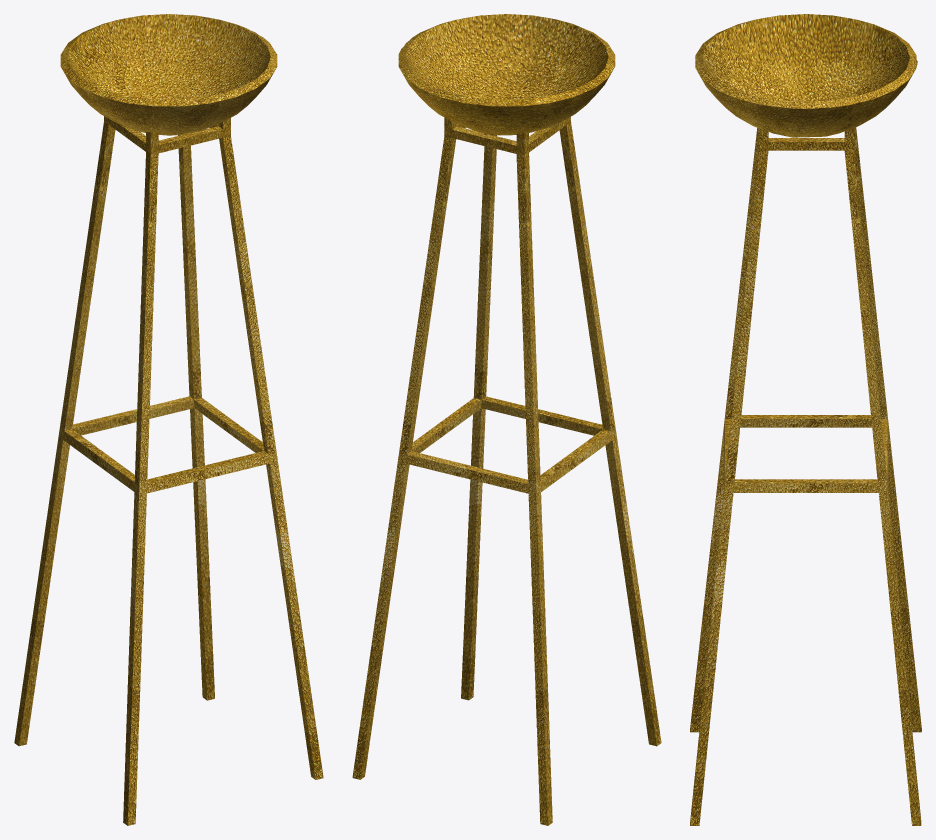
File: Fire lamp.FBX
The picture shows the model from 3 angles, left to right: view 1: azimuth 30°, elevation 25°; view 2: azimuth 150°, elevation 25°; view 3: azimuth 270°, elevation 25°; orthographic projection. The views are drawn at different scales.
Visible parts, largest first — view 1: fire lamp; view 2: fire lamp; view 3: fire lamp.
Boxes of the visible parts, x1=… form: fire lamp: x1=14, y1=14, x2=323, y2=825; fire lamp: x1=352, y1=14, x2=661, y2=825; fire lamp: x1=690, y1=14, x2=921, y2=825.
Bounding box in the file's own units: 50.26 × 172 × 50.35.
Materials: 1 (1 with a texture image).
